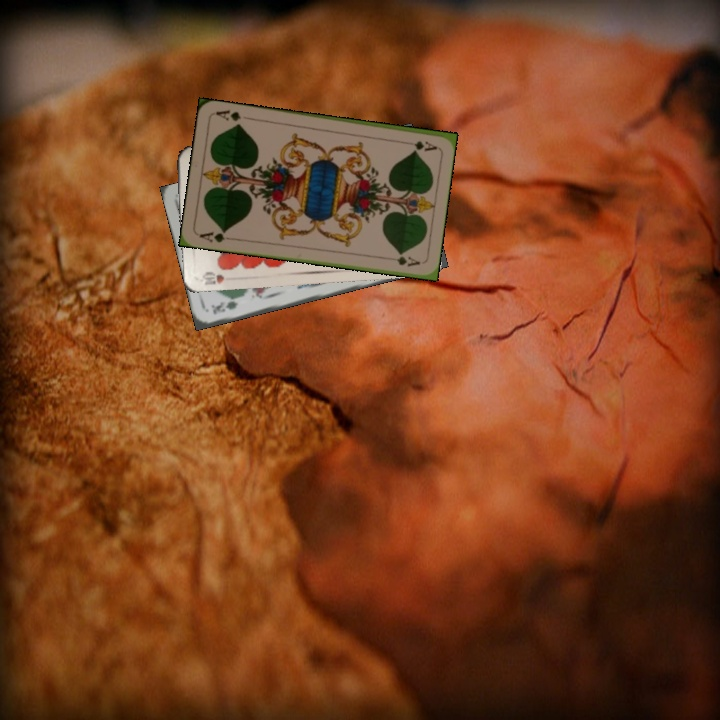GA: (195, 226, 236, 245), (398, 137, 439, 153)
GK: (207, 297, 240, 317)
H10: (199, 267, 226, 288)
